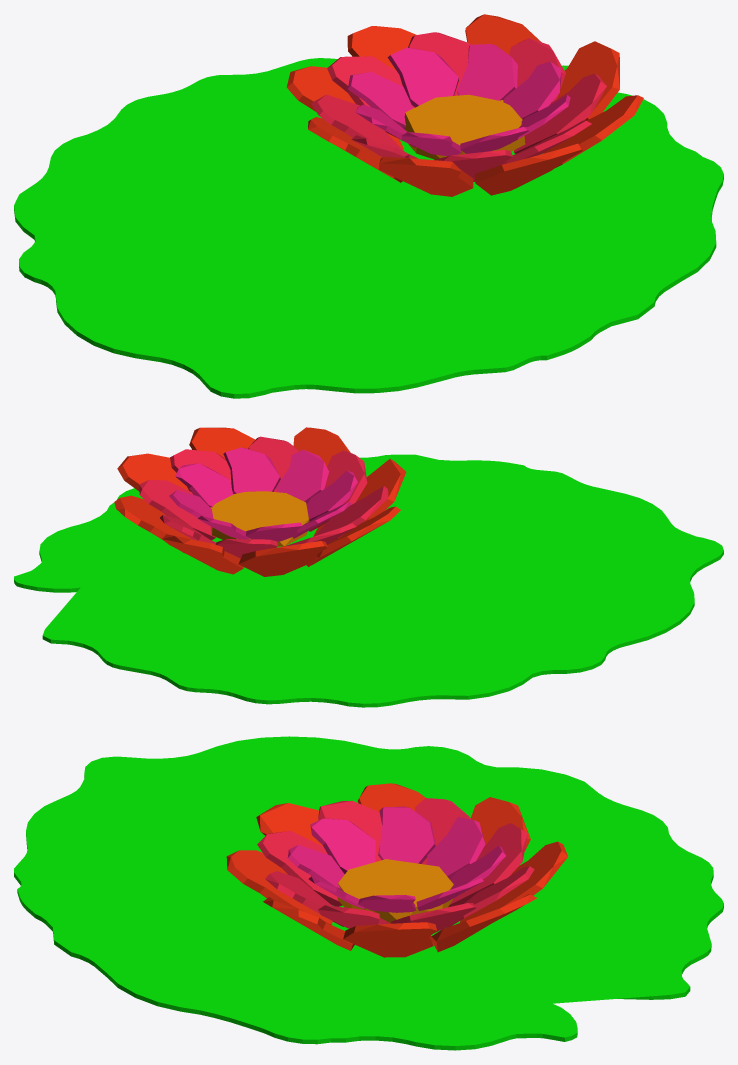
Rendered from lokvanj 5.fbx.
3 views of the same model, one above another, from view 1: azimuth 30°, elevation 25°; view 2: azimuth 150°, elevation 25°; view 3: azimuth 270°, elevation 25° (orthographic). The views are drawn at different scales.
Visible parts, largest first — view 1: Cylinder.004; view 2: Cylinder.004; view 3: Cylinder.004.
Part boxes in pixels (left/top/right/bottom): Cylinder.004: left=14, top=14, right=723, bottom=398; Cylinder.004: left=14, top=427, right=723, bottom=707; Cylinder.004: left=14, top=736, right=723, bottom=1050.
Bounding box in the file's own units: 330 × 47.08 × 320.
